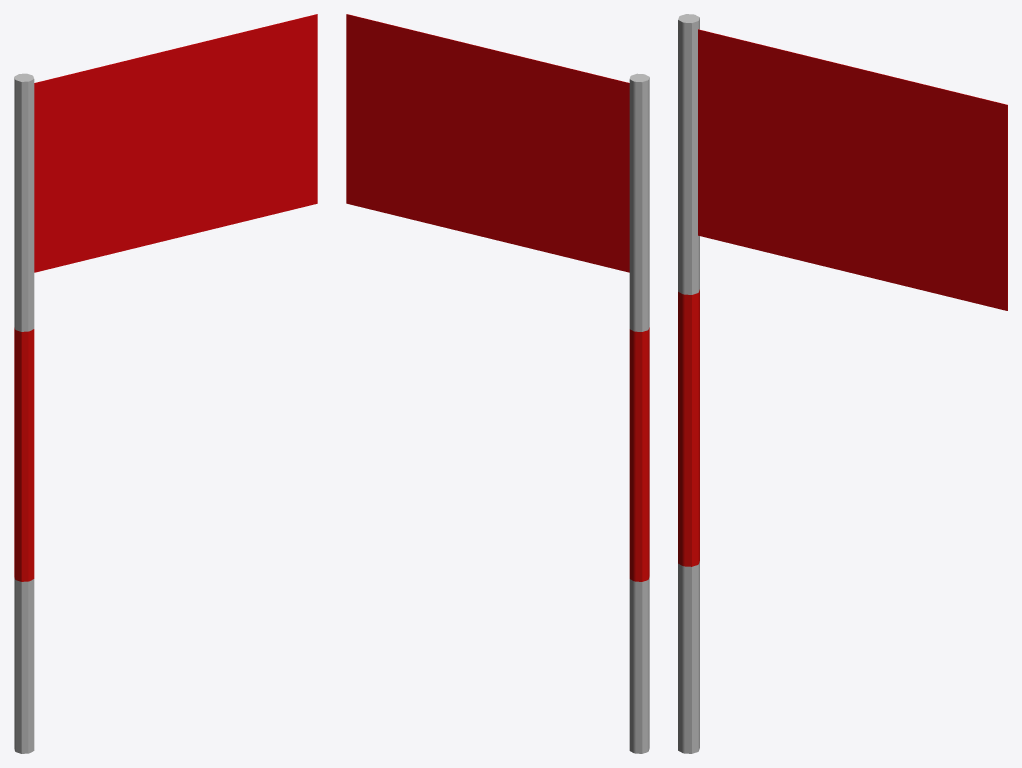
File: flag.fbx
The picture shows the model from 3 angles, left to right: view 1: azimuth 30°, elevation 25°; view 2: azimuth 150°, elevation 25°; view 3: azimuth 330°, elevation 25°; orthographic projection. The views are drawn at different scales.
Parts seen in each view (by area): view 1: Flag, Pole; view 2: Flag, Pole; view 3: Flag, Pole.
Part boxes in pixels (x1,y1,x2,y2): Flag: (34, 14, 317, 272); Pole: (14, 73, 34, 753); Flag: (346, 14, 629, 272); Pole: (629, 73, 649, 753); Flag: (698, 29, 1007, 310); Pole: (678, 14, 699, 753).
Size of the model in its own units: 5.44 by 11.57 by 0.3105.
